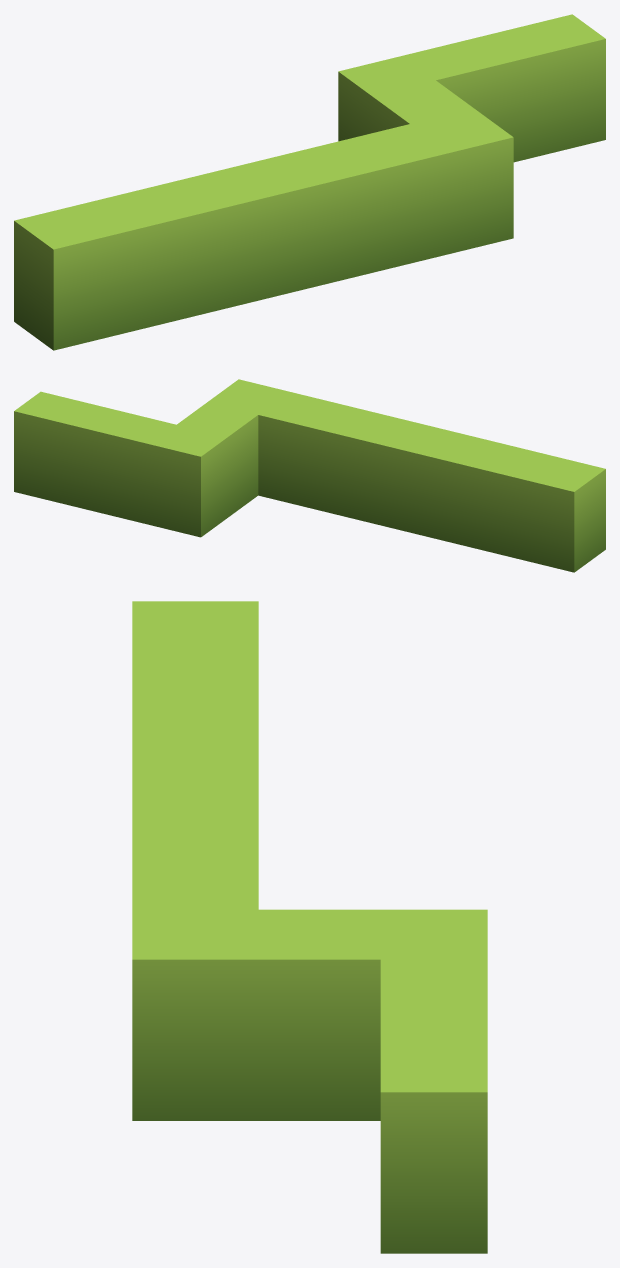
Rendered from grass 3.fbx.
The picture shows the model from 3 angles, top to bottom: view 1: azimuth 30°, elevation 25°; view 2: azimuth 150°, elevation 25°; view 3: azimuth 270°, elevation 25°; orthographic projection. The views are drawn at different scales.
Visible parts, largest first — view 1: bush_1; view 2: bush_1; view 3: bush_1.
Part boxes in pixels (x1=…): bush_1: x1=14, y1=14, x2=605, y2=350; bush_1: x1=14, y1=379, x2=605, y2=572; bush_1: x1=132, y1=601, x2=487, y2=1253.
Bounding box in the file's own units: 624 × 95.64 × 191.
Materials: 1 (1 with a texture image).
